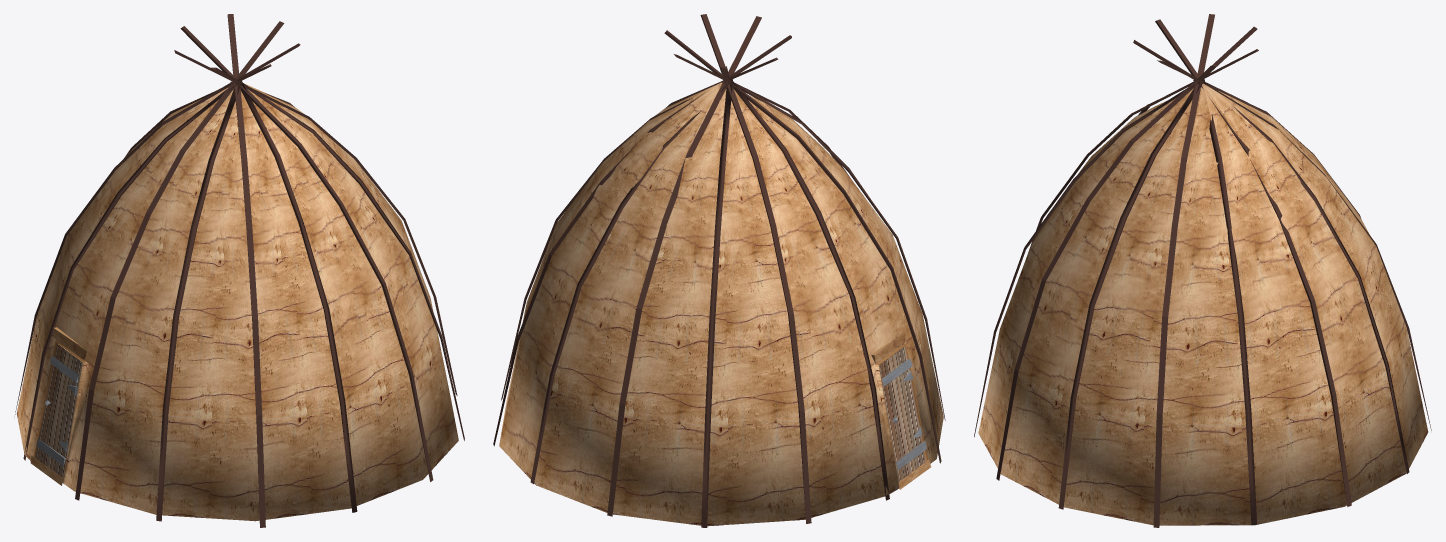
Rendered from uraha1.glb.
The picture shows the model from 3 angles, left to right: view 1: azimuth 30°, elevation 25°; view 2: azimuth 150°, elevation 25°; view 3: azimuth 270°, elevation 25°; orthographic projection.
Parts seen in each view (by area): view 1: Ураьа; view 2: Ураьа; view 3: Ураьа.
Boxes of the visible parts, x1,y1,x2,y2 form: Ураьа: (14, 14, 464, 527); Ураьа: (493, 14, 945, 527); Ураьа: (974, 14, 1431, 527).
Bounding box in the file's own units: 3.4 × 3.31 × 3.45.
Materials: 4 (4 with a texture image).
